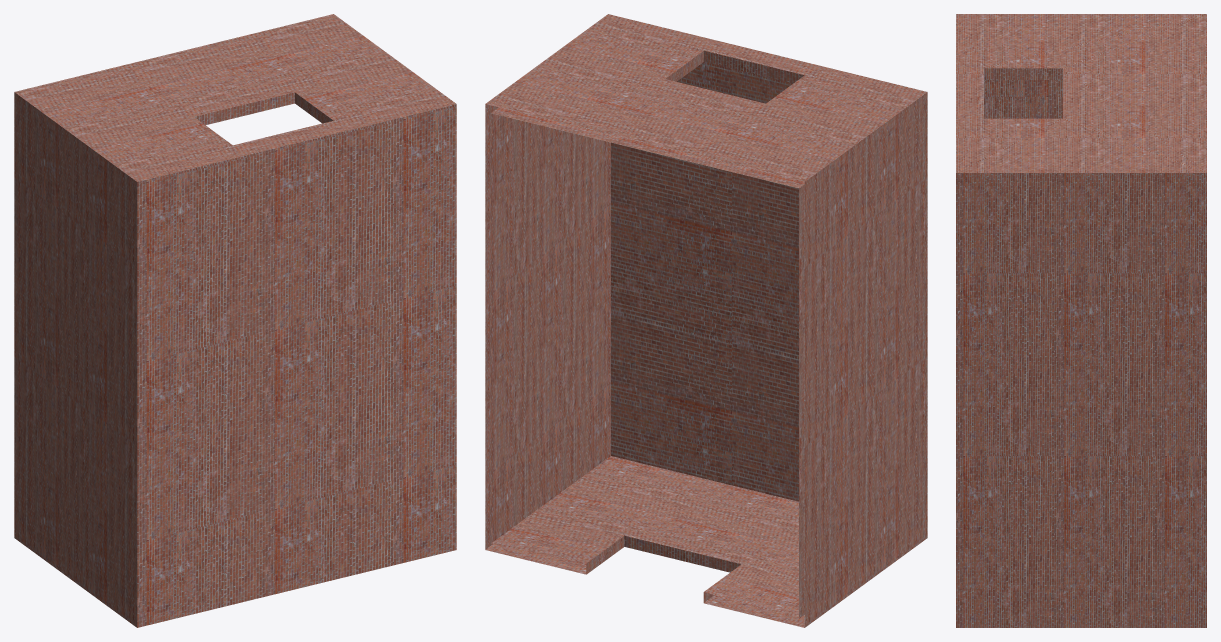
The model's file is baylands_hangar.glb.
3 views of the same model, side by side, from view 1: azimuth 30°, elevation 25°; view 2: azimuth 150°, elevation 25°; view 3: azimuth 270°, elevation 25° (orthographic). The views are drawn at different scales.
Parts seen in each view (by area): view 1: saray; view 2: saray; view 3: saray.
Boxes of the visible parts, x1,y1,x2,y2 form: saray: (14, 14, 456, 627); saray: (485, 14, 927, 627); saray: (956, 14, 1206, 627).
Bounding box in the file's own units: 15 × 20 × 10.
1 material, 1 textured.
